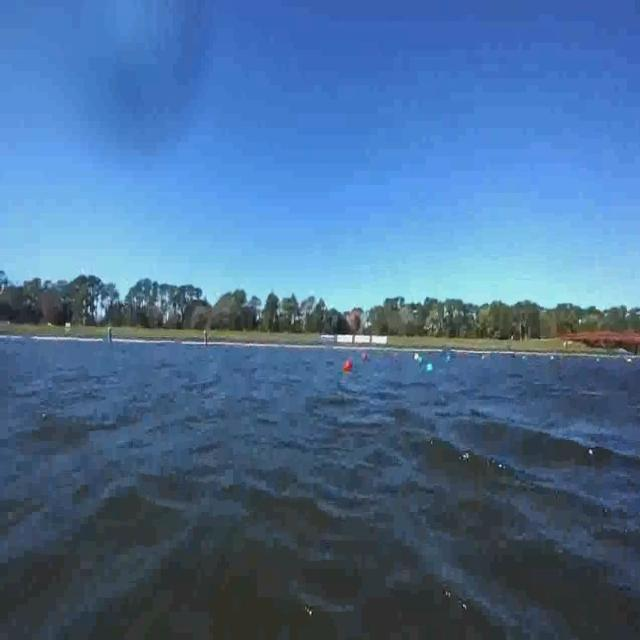red-buoy: (345, 359, 353, 372)
